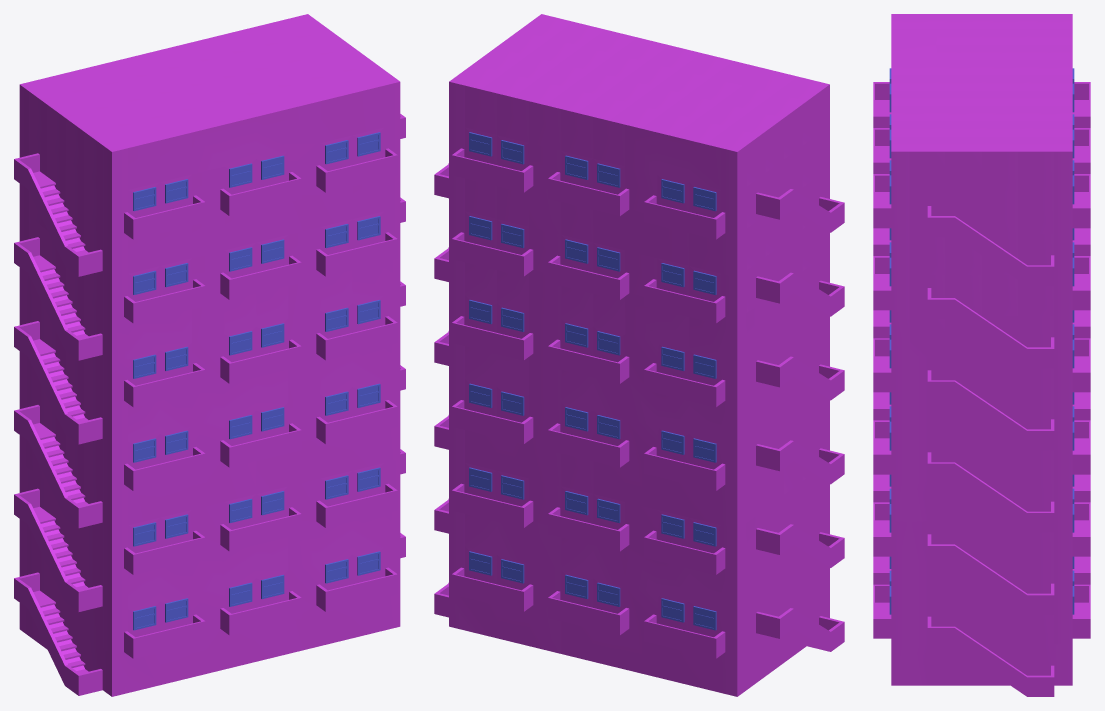
The model's file is Prop_Houses3_M.fbx.
The picture shows the model from 3 angles, left to right: view 1: azimuth 30°, elevation 25°; view 2: azimuth 150°, elevation 25°; view 3: azimuth 270°, elevation 25°; orthographic projection. The views are drawn at different scales.
Visible parts, largest first — view 1: Environment_ModularBuildingSet_Stairs_BertaH_M.007; view 2: Environment_ModularBuildingSet_Stairs_BertaH_M.007; view 3: Environment_ModularBuildingSet_Stairs_BertaH_M.007.
Boxes of the visible parts, x1,y1,x2,y2 form: Environment_ModularBuildingSet_Stairs_BertaH_M.007: [14, 14, 405, 696]; Environment_ModularBuildingSet_Stairs_BertaH_M.007: [434, 14, 844, 696]; Environment_ModularBuildingSet_Stairs_BertaH_M.007: [873, 14, 1090, 696].
Bounding box in the file's own units: 2100 × 3250 × 1200.
